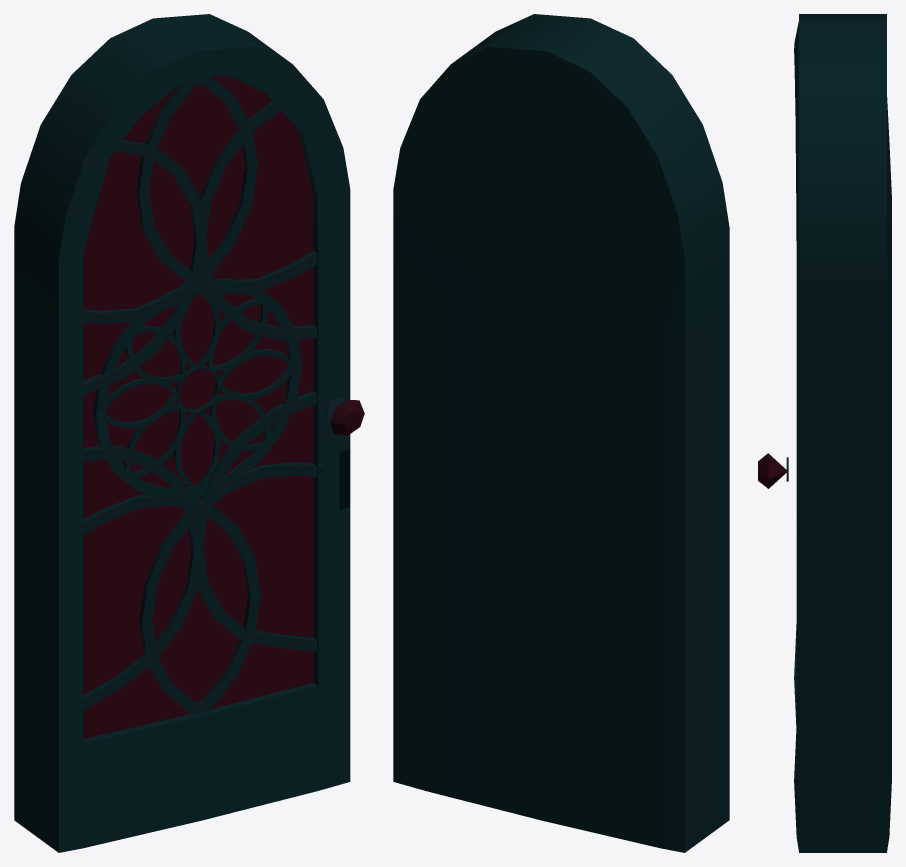
Rendered from Einganstür Comb.fbx.
3 renders of one model, left to right at view 1: azimuth 30°, elevation 25°; view 2: azimuth 150°, elevation 25°; view 3: azimuth 270°, elevation 25°, orthographic.
Visible parts, largest first — view 1: pCylinder9; view 2: pCylinder9; view 3: pCylinder9.
Part boxes in pixels (x1,y1,x2,y2): pCylinder9: [14, 14, 364, 852]; pCylinder9: [393, 14, 729, 852]; pCylinder9: [758, 14, 891, 852].
Size of the model in its own units: 130 by 326 by 52.53.
